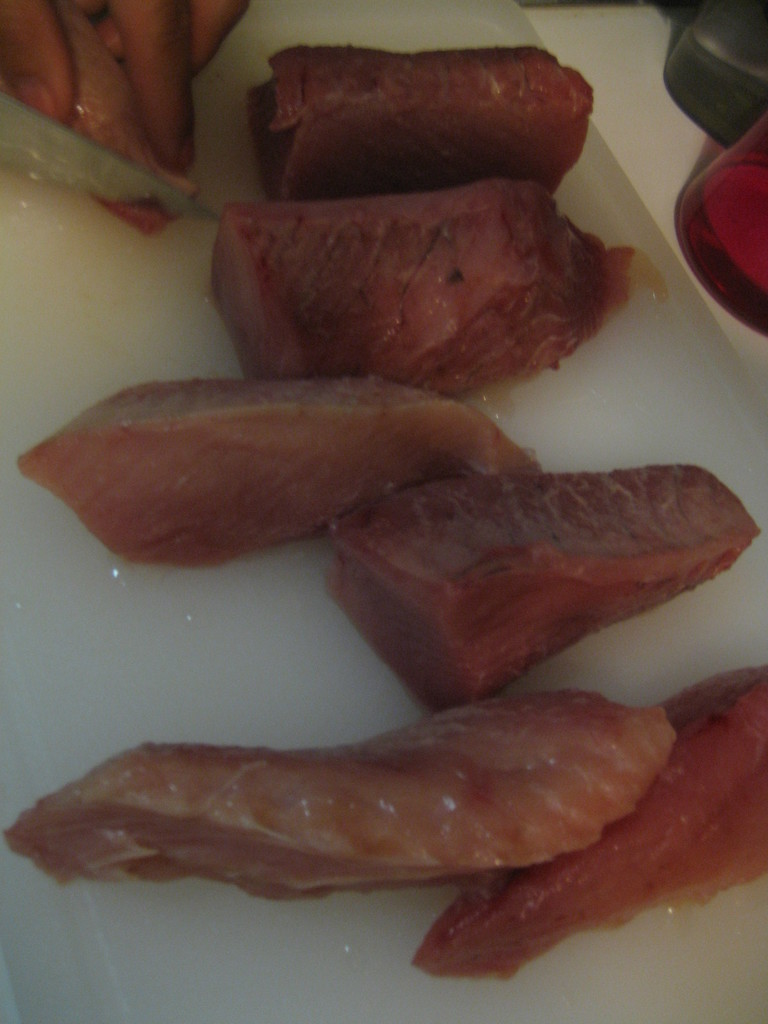person: (0, 0, 254, 216)
